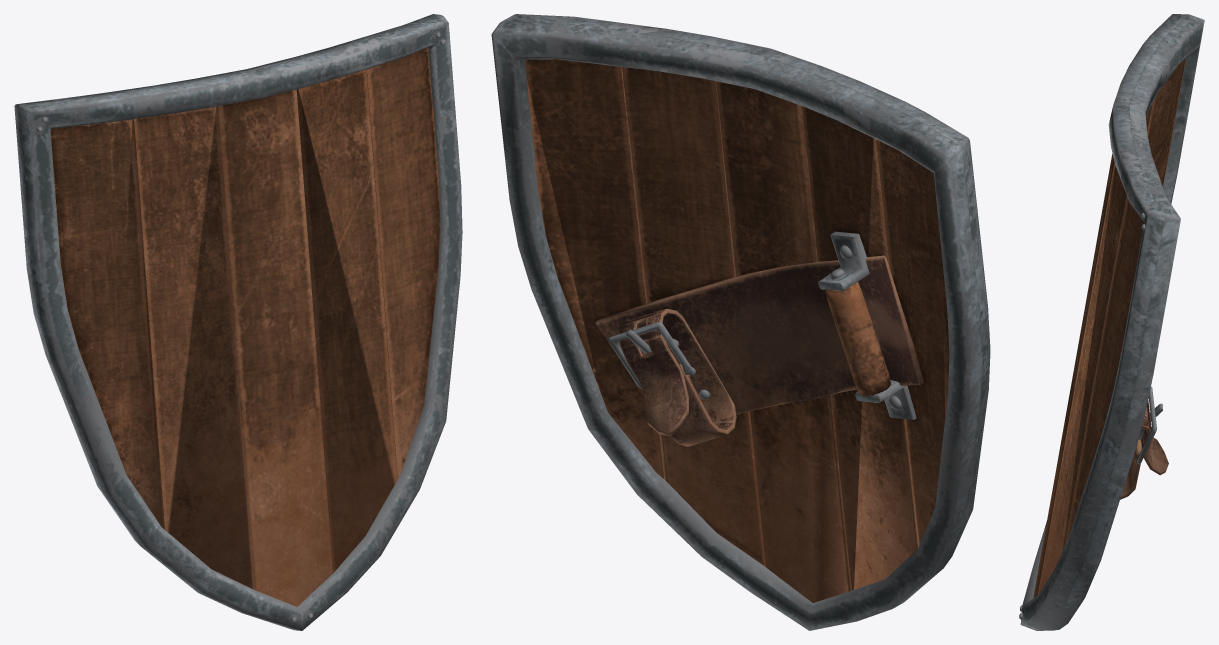
The model's file is s_heater.glb.
3 views of the same model, side by side, from view 1: azimuth 30°, elevation 25°; view 2: azimuth 150°, elevation 25°; view 3: azimuth 270°, elevation 25° (orthographic). The views are drawn at different scales.
Parts seen in each view (by area): view 1: defaultMaterial.002, defaultMaterial.001; view 2: defaultMaterial.002, defaultMaterial.001, defaultMaterial; view 3: defaultMaterial.001, defaultMaterial.002, defaultMaterial.
Part boxes in pixels (<box>): defaultMaterial.002: <box>50,47,440,606</box>; defaultMaterial.001: <box>14,14,462,630</box>; defaultMaterial.002: <box>525,59,949,602</box>; defaultMaterial.001: <box>491,14,990,630</box>; defaultMaterial: <box>595,255,923,446</box>; defaultMaterial.001: <box>1019,14,1204,630</box>; defaultMaterial.002: <box>1033,59,1185,597</box>; defaultMaterial: <box>1120,400,1168,499</box>.
Size of the model in its own units: 1.63 by 1.98 by 0.6307.
Materials: 3 (3 with a texture image).
